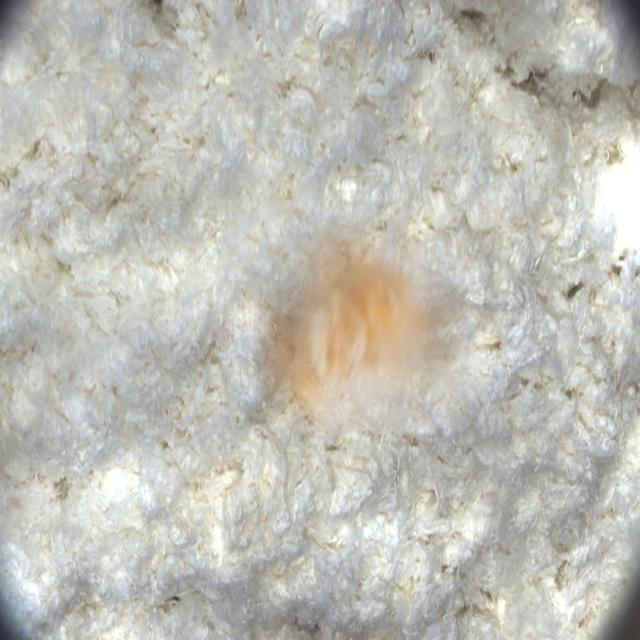dust: (254, 201, 469, 435)
